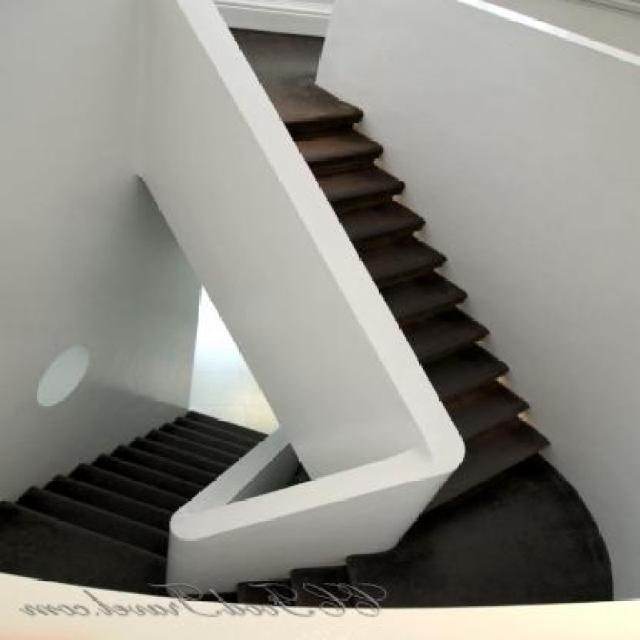stair: (1, 108, 614, 609)
